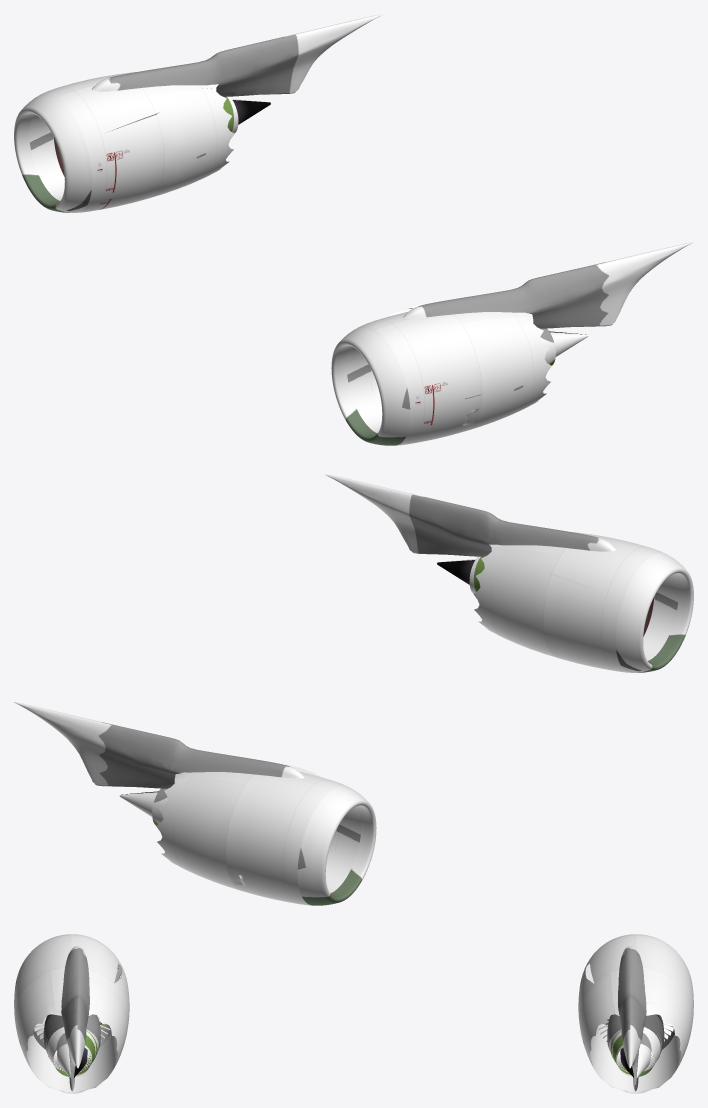
File: Trent1000.glb
3 renders of one model, top to bottom at view 1: azimuth 30°, elevation 25°; view 2: azimuth 150°, elevation 25°; view 3: azimuth 270°, elevation 25°, orthographic. The views are drawn at different scales.
Parts seen in each view (by area): view 1: no1enge, no2enge, front, no1pylon, no2pylon, lhreverser, rhreverser; view 2: no2enge, no1enge, front, no2pylon, no1pylon, rhreverser, lhreverser; view 3: rhreverser, lhreverser, no1enge, no2enge, no1pylon, no2pylon, lhenginecore, rhenginecore, lhinside, rhinside, lhcone, rhcone (+3 smaller).
Boxes of the visible parts, x1,y1,x2,y2 form: no1enge: [346, 312, 530, 445]; no2enge: [29, 72, 218, 212]; front: [14, 93, 410, 445]; no1pylon: [403, 242, 693, 328]; no2pylon: [92, 14, 382, 96]; lhreverser: [462, 314, 551, 430]; rhreverser: [121, 72, 234, 197]; no2enge: [177, 772, 361, 905]; no1enge: [489, 532, 678, 672]; front: [297, 553, 693, 905]; no2pylon: [14, 702, 304, 788]; no1pylon: [325, 474, 616, 556]; rhreverser: [156, 774, 245, 890]; lhreverser: [473, 532, 586, 657]; rhreverser: [579, 970, 692, 1093]; lhreverser: [15, 970, 128, 1093]; no1enge: [14, 935, 129, 1021]; no2enge: [578, 935, 693, 1021]; no1pylon: [61, 946, 89, 1084]; no2pylon: [618, 946, 646, 1084]; lhenginecore: [46, 1027, 98, 1076]; rhenginecore: [609, 1027, 661, 1076]; lhinside: [43, 1014, 100, 1091]; rhinside: [607, 1014, 664, 1091]; lhcone: [57, 1044, 87, 1078]; rhcone: [620, 1044, 650, 1078].
Bounding box in the file's own units: 11.73 × 4.09 × 22.72.
1 material, 1 textured.
